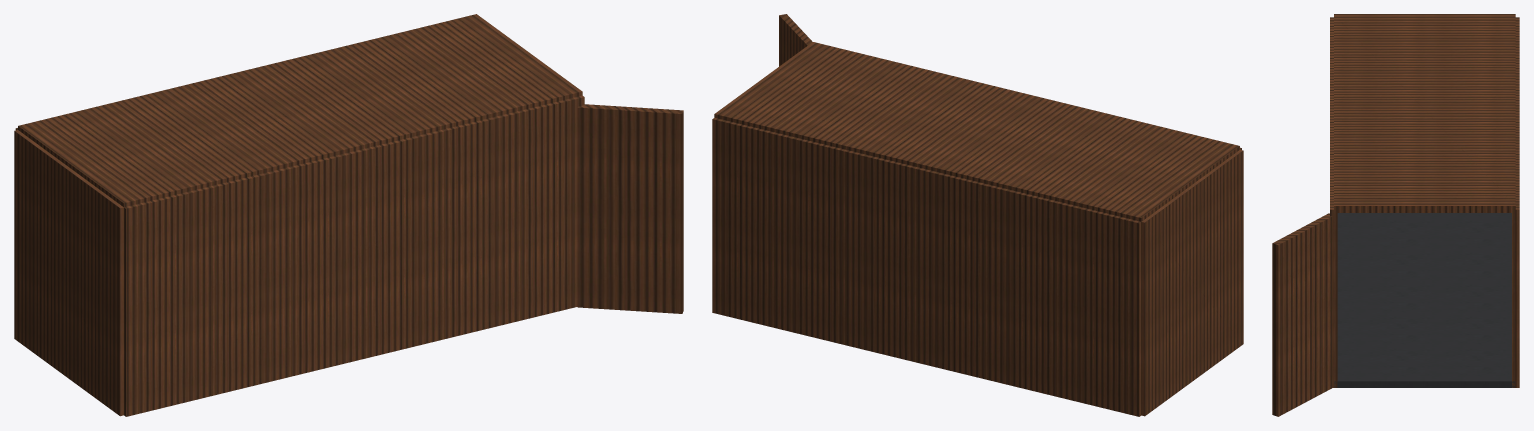
The model's file is open_container_01.glb.
3 renders of one model, left to right at view 1: azimuth 30°, elevation 25°; view 2: azimuth 150°, elevation 25°; view 3: azimuth 270°, elevation 25°, orthographic. The views are drawn at different scales.
Parts seen in each view (by area): view 1: open_container_01; view 2: open_container_01; view 3: open_container_01.
Boxes of the visible parts, bbox=[...] form: open_container_01: bbox=[14, 14, 683, 416]; open_container_01: bbox=[712, 14, 1243, 416]; open_container_01: bbox=[1272, 14, 1519, 416].
Size of the model in its own units: 6.95 by 2.65 by 3.26.
2 materials, 2 textured.
